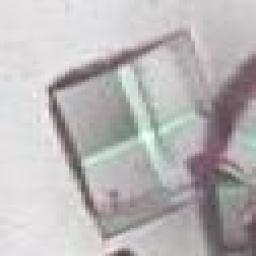crystals: (40, 26, 223, 239)
